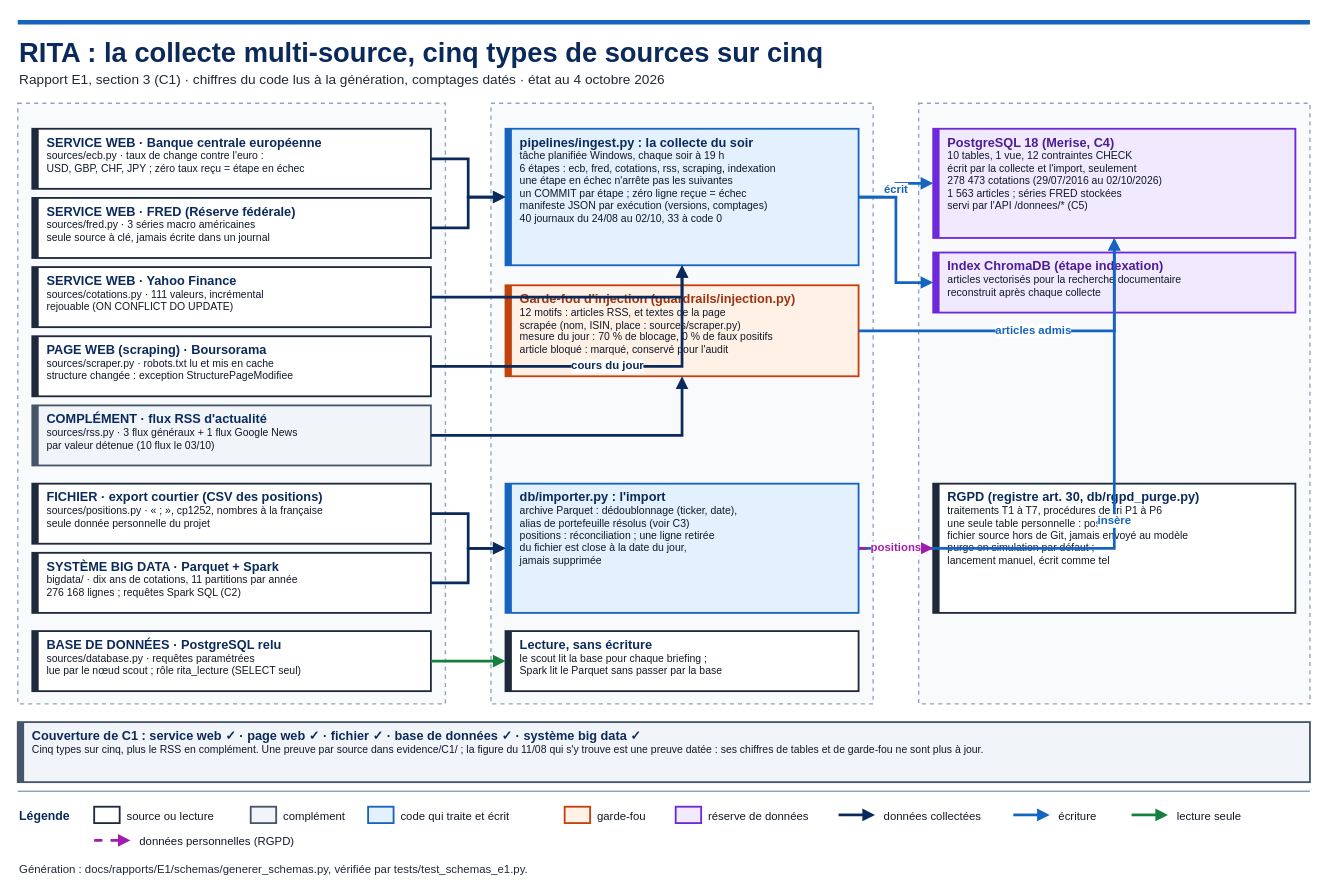
The diagram is 1328 pixels wide and 895 high, and some of its shapes have lost their labels. Here are the shapes that lost their labels. From the top down, the box of each, then its label:
(17, 102, 446, 704): 1. SOURCES, PAR TYPE EXIGÉ PAR C1
(490, 102, 873, 704): 2. TRAITEMENTS
(918, 102, 1310, 704): 3. DESTINATION ET CONFORMITÉ
